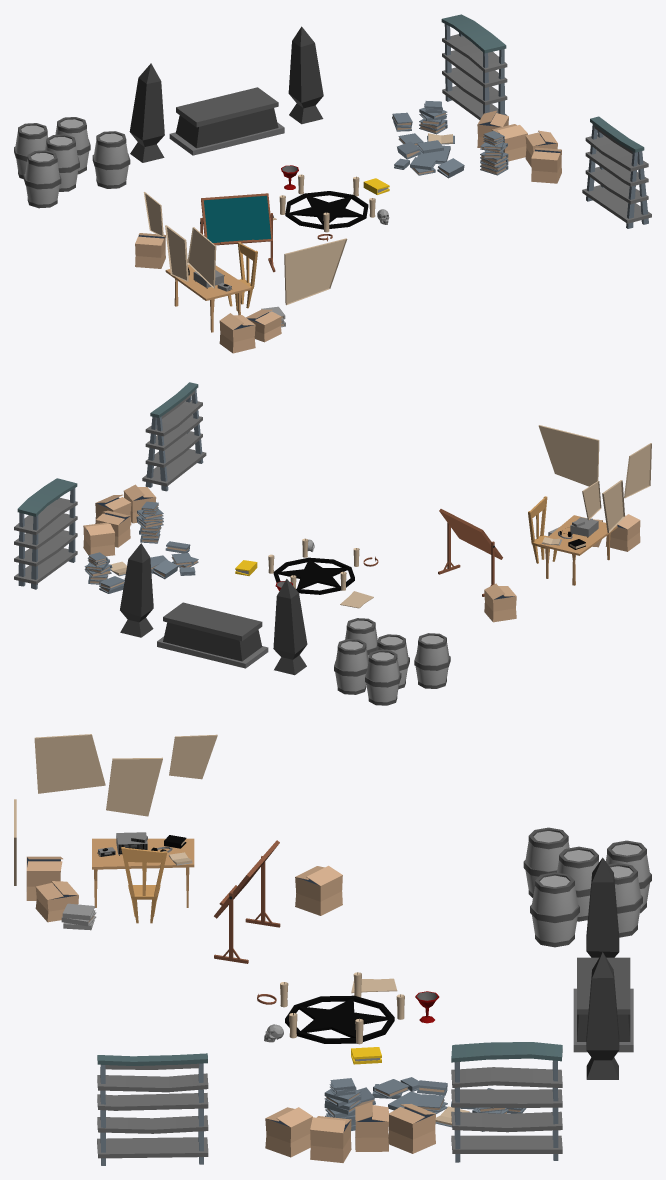
File: static stuff basement.fbx
3 renders of one model, top to bottom at view 1: azimuth 30°, elevation 25°; view 2: azimuth 150°, elevation 25°; view 3: azimuth 270°, elevation 25°, orthographic. The views are drawn at different scales.
Visible parts, largest first — view 1: basement stuff, basement altar; view 2: basement stuff, basement altar; view 3: basement stuff, basement altar.
Part boxes in pixels (<box>): basement stuff: <box>14,14,651,353</box>; basement altar: <box>279,174,375,232</box>; basement stuff: <box>14,382,651,705</box>; basement altar: <box>268,538,359,594</box>; basement stuff: <box>14,734,651,1165</box>; basement altar: <box>280,972,404,1044</box>.
Size of the model in its own units: 13.75 by 3.17 by 12.78.
